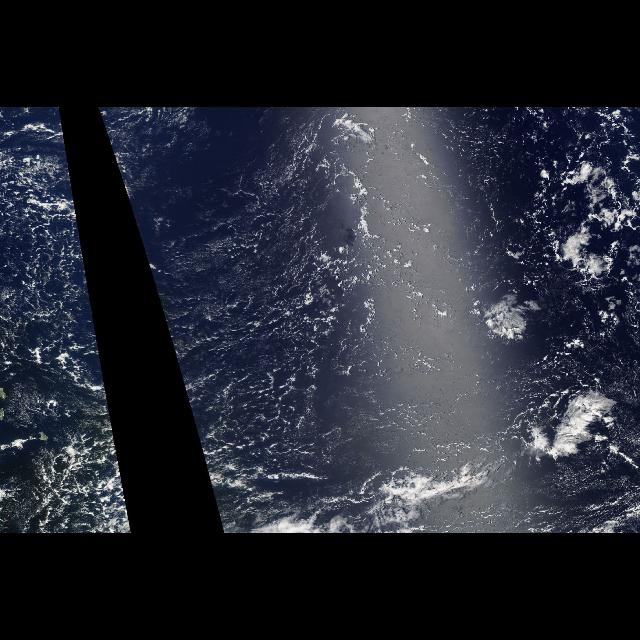Flower: (442, 282, 614, 476)
Gravel: (124, 196, 374, 444), (8, 155, 116, 530)
Sugar: (144, 121, 506, 463)
